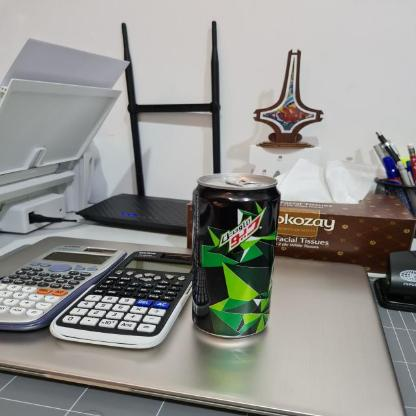Can: (192, 170, 280, 338)
